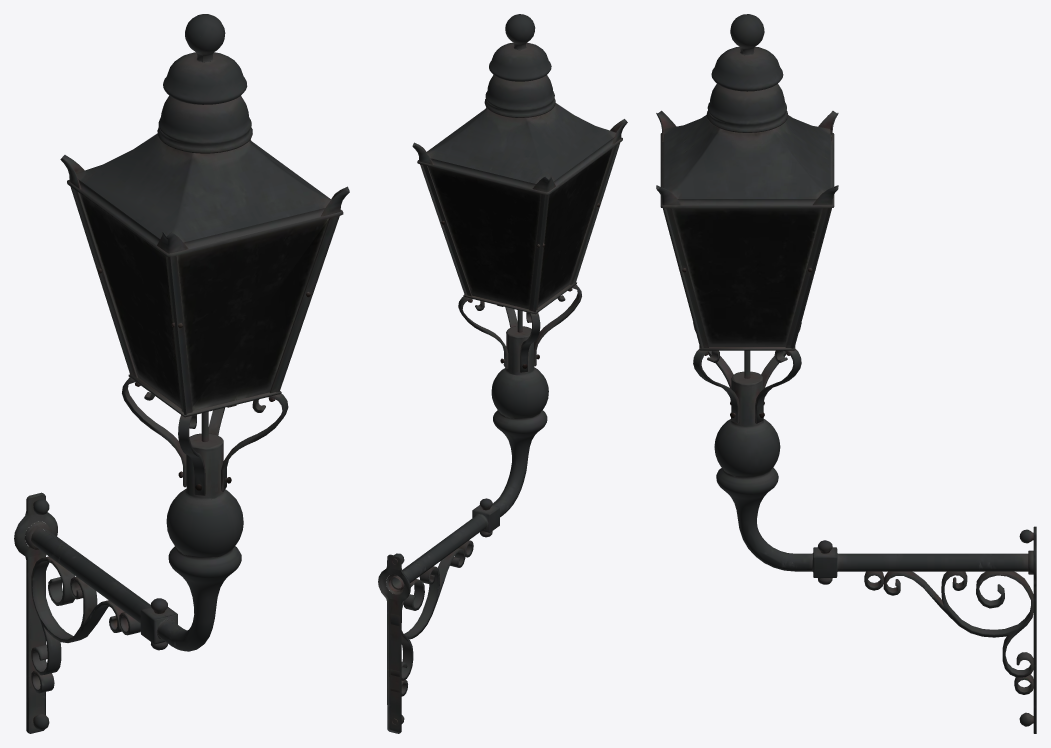
The model's file is street_lamp_02.glb.
3 views of the same model, side by side, from view 1: azimuth 30°, elevation 25°; view 2: azimuth 150°, elevation 25°; view 3: azimuth 270°, elevation 25° (orthographic). The views are drawn at different scales.
Visible parts, largest first — view 1: street_lamp_02; view 2: street_lamp_02; view 3: street_lamp_02.
Boxes of the visible parts, x1,y1,x2,y2 form: street_lamp_02: [14, 14, 349, 733]; street_lamp_02: [378, 14, 627, 733]; street_lamp_02: [656, 14, 1036, 733].
Bounding box in the file's own units: 0.3866 × 1.67 × 0.8068.
Materials: 3 (3 with a texture image).
